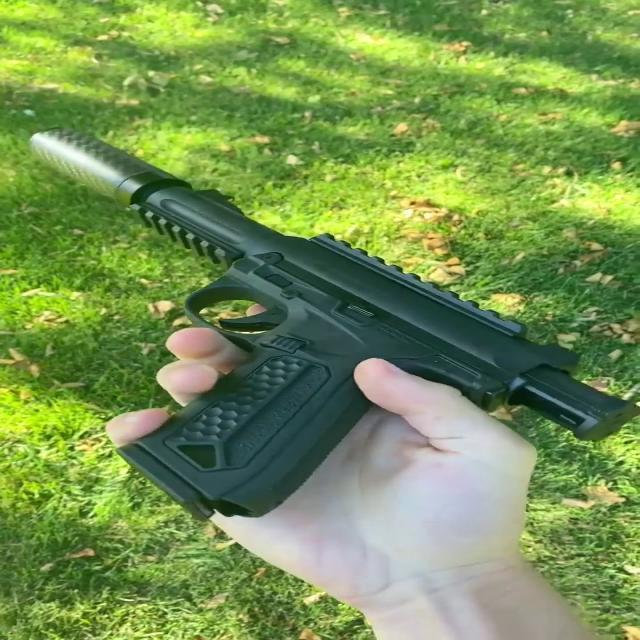Handgun: (15, 121, 640, 552)
